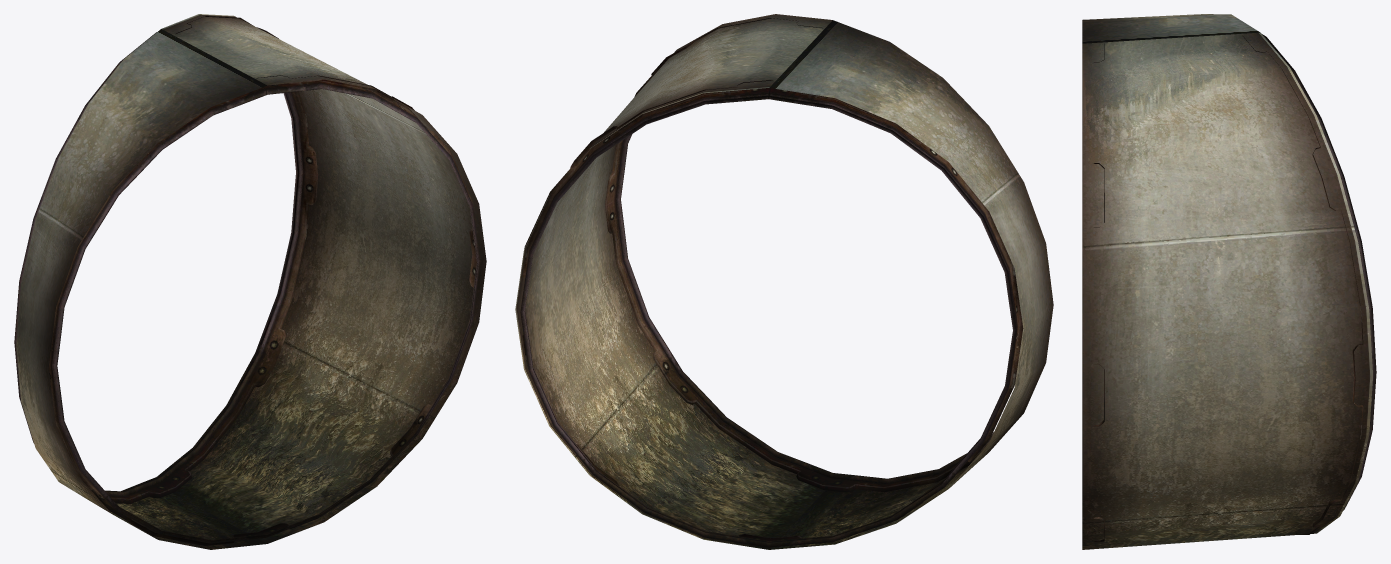
File: flush_tunnel_02_07_straight_extrashort_turn_25.DAE
3 renders of one model, left to right at view 1: azimuth 30°, elevation 25°; view 2: azimuth 150°, elevation 25°; view 3: azimuth 270°, elevation 25°, orthographic. The views are drawn at different scales.
Parts seen in each view (by area): view 1: polySurface612; view 2: polySurface612; view 3: polySurface612.
Part boxes in pixels (box(x1,y1,x2,y2)): polySurface612: box(14, 14, 486, 549); polySurface612: box(515, 14, 1053, 549); polySurface612: box(1082, 14, 1376, 549).
Size of the model in its own units: 4.01 by 4 by 2.21.
